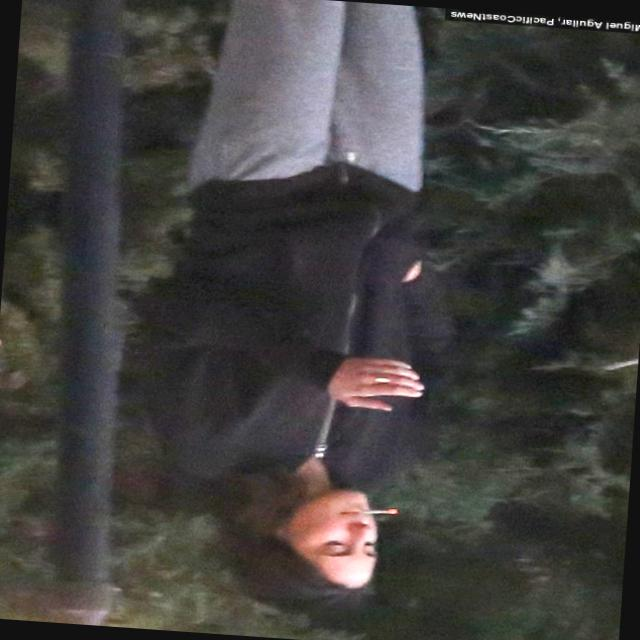smoke: (348, 504, 406, 522)
